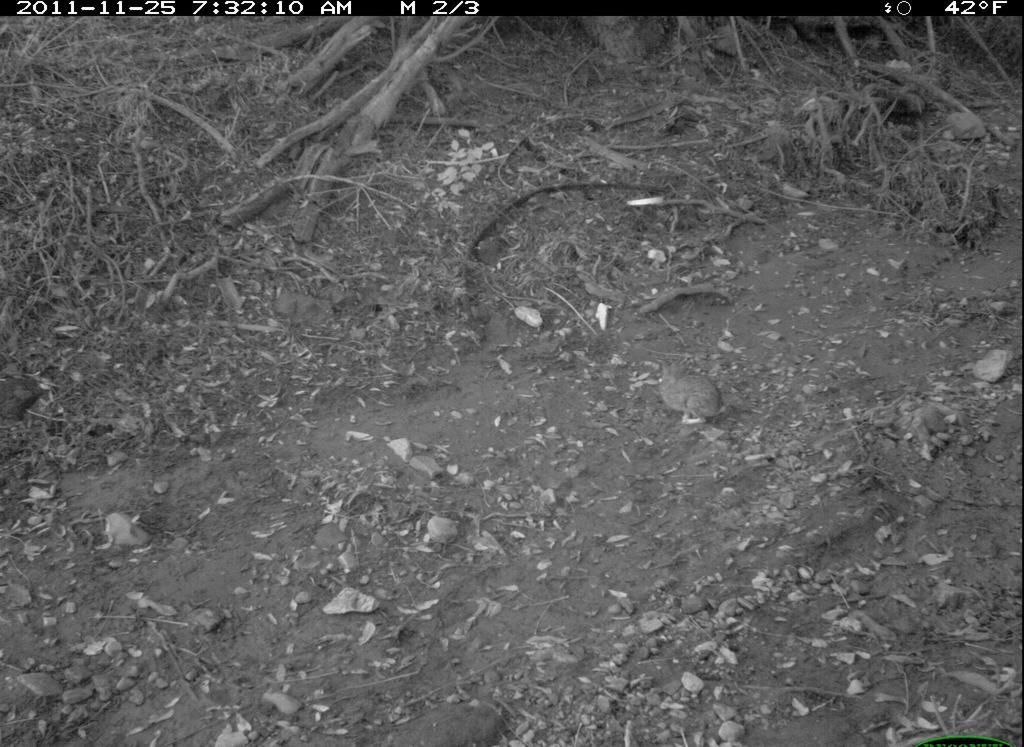rabbit: (651, 355, 728, 431)
